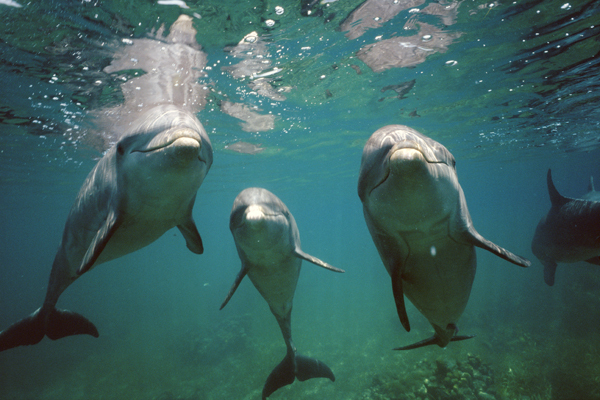dolphin: (1, 89, 233, 375), (344, 110, 537, 356), (216, 173, 340, 400)
